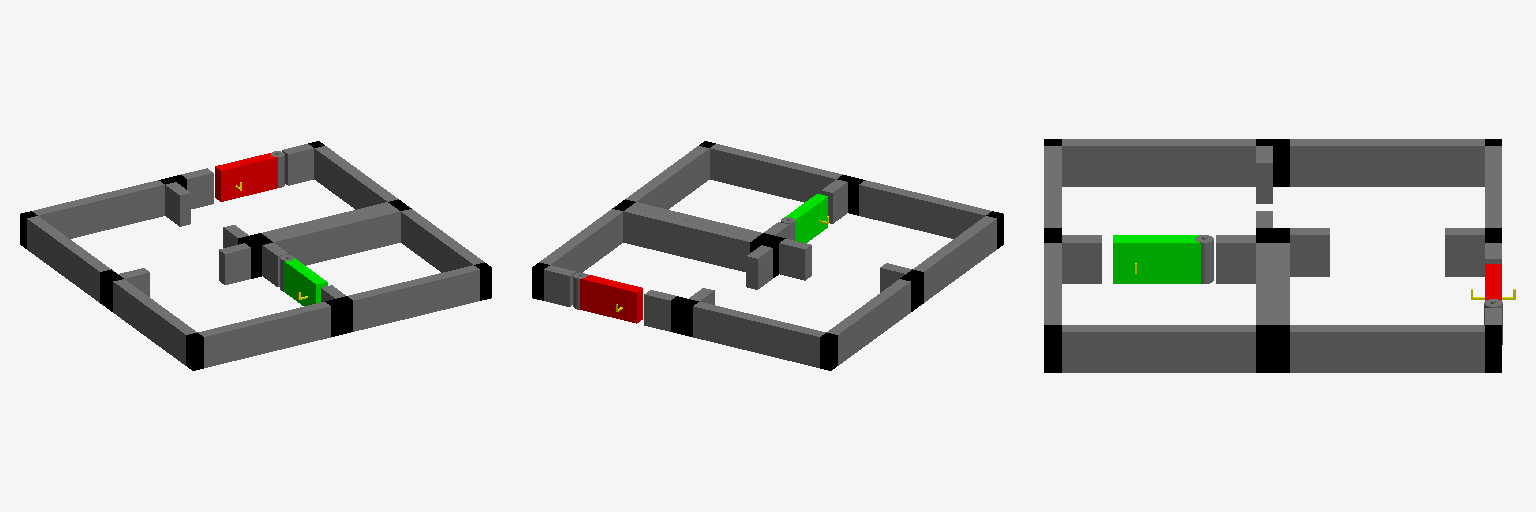
--- What the picture shows (computed from the rendered views, not written in the file) ---
3 views of the same robot in one strip: view 1: azimuth 30°, elevation 25°; view 2: azimuth 150°, elevation 25°; view 3: azimuth 270°, elevation 25° (orthographic).
Robot: rooms1 — 48 links, 47 joints (2 revolute, 45 fixed); root link base_link; default pose: all joints at 0.
Visible links, largest first — view 1: link_fixed_3_wall_(0.0, -0.4625), link_fixed_20_wall_(-1.0, -0.4625), link_fixed_1_wall_(0.0, 0.4625), link_fixed_25_wall_(-1.0, 1.4625), link_fixed_31_wall_(-1.4625, 1.0), link_fixed_23_wall_(-1.4625, 0.0), link_fixed_45_wall_(0.4625, 1.0), link_fixed_5_wall_(0.4625, 0.0), link_fixed_37_door_panel, link_fixed_11_door_panel, link_fixed_18_wall_(-0.6625, 0.4625), link_fixed_34_wall_(0.3375, 1.4625) (+5 smaller); view 2: link_fixed_25_wall_(-1.0, 1.4625), link_fixed_43_wall_(0.0, 0.5375), link_fixed_20_wall_(-1.0, -0.4625), link_fixed_3_wall_(0.0, -0.4625), link_fixed_23_wall_(-1.4625, 0.0), link_fixed_31_wall_(-1.4625, 1.0), link_fixed_5_wall_(0.4625, 0.0), link_fixed_45_wall_(0.4625, 1.0), link_fixed_37_door_panel, link_fixed_11_door_panel, link_fixed_18_wall_(-0.6625, 0.4625), link_fixed_34_wall_(0.3375, 1.4625) (+5 smaller); view 3: link_fixed_31_wall_(-1.4625, 1.0), link_fixed_45_wall_(0.4625, 1.0), link_fixed_23_wall_(-1.4625, 0.0), link_fixed_5_wall_(0.4625, 0.0), link_fixed_11_door_panel, link_fixed_28_wall_(-0.5375, 0.6625), link_fixed_29_wall_(-0.5375, 1.3375), link_fixed_7_wall_(-0.4625, -0.3375), link_fixed_8_wall_(-0.4625, 0.3375), link_fixed_20_wall_(-1.0, -0.4625), link_fixed_3_wall_(0.0, -0.4625), link_fixed_1_wall_(0.0, 0.4625) (+10 smaller).
Link boxes in pixels (bbox=[...]): link_fixed_3_wall_(0.0, -0.4625): bbox=[348, 265, 479, 331]; link_fixed_20_wall_(-1.0, -0.4625): bbox=[198, 302, 330, 367]; link_fixed_1_wall_(0.0, 0.4625): bbox=[268, 207, 400, 265]; link_fixed_25_wall_(-1.0, 1.4625): bbox=[32, 180, 164, 238]; link_fixed_31_wall_(-1.4625, 1.0): bbox=[27, 216, 110, 302]; link_fixed_23_wall_(-1.4625, 0.0): bbox=[113, 279, 197, 365]; link_fixed_45_wall_(0.4625, 1.0): bbox=[314, 146, 397, 209]; link_fixed_5_wall_(0.4625, 0.0): bbox=[401, 209, 483, 272]; link_fixed_37_door_panel: bbox=[215, 153, 277, 201]; link_fixed_11_door_panel: bbox=[283, 258, 327, 305]; link_fixed_18_wall_(-0.6625, 0.4625): bbox=[219, 243, 250, 284]; link_fixed_34_wall_(0.3375, 1.4625): bbox=[282, 144, 313, 185]; link_fixed_25_wall_(-1.0, 1.4625): bbox=[693, 302, 825, 367]; link_fixed_43_wall_(0.0, 0.5375): bbox=[623, 207, 755, 271]; link_fixed_20_wall_(-1.0, -0.4625): bbox=[859, 180, 991, 238]; link_fixed_3_wall_(0.0, -0.4625): bbox=[710, 144, 842, 202]; link_fixed_23_wall_(-1.4625, 0.0): bbox=[913, 216, 996, 302]; link_fixed_31_wall_(-1.4625, 1.0): bbox=[826, 279, 910, 365]; link_fixed_5_wall_(0.4625, 0.0): bbox=[626, 146, 709, 209]; link_fixed_45_wall_(0.4625, 1.0): bbox=[540, 209, 622, 272]; link_fixed_37_door_panel: bbox=[580, 274, 642, 323]; link_fixed_11_door_panel: bbox=[784, 194, 827, 242]; link_fixed_18_wall_(-0.6625, 0.4625): bbox=[779, 239, 811, 280]; link_fixed_34_wall_(0.3375, 1.4625): bbox=[544, 265, 575, 306]; link_fixed_31_wall_(-1.4625, 1.0): bbox=[1290, 139, 1484, 186]; link_fixed_45_wall_(0.4625, 1.0): bbox=[1290, 325, 1484, 372]; link_fixed_23_wall_(-1.4625, 0.0): bbox=[1062, 139, 1255, 186]; link_fixed_5_wall_(0.4625, 0.0): bbox=[1062, 325, 1255, 372]; link_fixed_11_door_panel: bbox=[1113, 235, 1200, 283]; link_fixed_28_wall_(-0.5375, 0.6625): bbox=[1290, 228, 1329, 276]; link_fixed_29_wall_(-0.5375, 1.3375): bbox=[1445, 228, 1484, 276]; link_fixed_7_wall_(-0.4625, -0.3375): bbox=[1062, 235, 1101, 283]; link_fixed_8_wall_(-0.4625, 0.3375): bbox=[1216, 235, 1255, 283]; link_fixed_20_wall_(-1.0, -0.4625): bbox=[1044, 146, 1061, 227]; link_fixed_3_wall_(0.0, -0.4625): bbox=[1044, 243, 1061, 324]; link_fixed_1_wall_(0.0, 0.4625): bbox=[1256, 243, 1272, 324].
Bounding box of the posed robot: 8 × 8.24 × 0.879 m (x, y, z).
Geometry: primitives only (box / cylinder / sphere), no mesh files.

The robot description file, URDF, robot "rooms1":
<?xml version="1.0"?>
<!-- created with Phobos 1.0.1 "Capricious Choutengan" -->
  <robot name="rooms1">

    <link name="base_link">
    </link>

    <link name="link_0_joint_0">
      <visual name="visual_cylinder_9_link_0">
        <origin xyz="0 0 0" rpy="0 0 0"/>
        <geometry>
          <cylinder radius="0.1645" length="0.799"/>
        </geometry>
        <material name="gray"/>
      </visual>
      <collision name="collision_cylinder_9_link_0">
        <origin xyz="0 0 0" rpy="0 0 0"/>
        <geometry>
          <cylinder radius="0.1645" length="0.799"/>
        </geometry>
      </collision>
    </link>

    <link name="link_1_joint_0">
      <visual name="visual_cylinder_35_link_1">
        <origin xyz="0 0 0" rpy="0 0 0"/>
        <geometry>
          <cylinder radius="0.1645" length="0.799"/>
        </geometry>
        <material name="gray"/>
      </visual>
      <collision name="collision_cylinder_35_link_1">
        <origin xyz="0 0 0" rpy="0 0 0"/>
        <geometry>
          <cylinder radius="0.1645" length="0.799"/>
        </geometry>
      </collision>
    </link>

    <link name="link_fixed_0_pillar_(-0.4625, 0.4625)">
      <visual name="visual_box_fixed_0_pillar_(-0.4625, 0.4625)">
        <origin xyz="0 0 0" rpy="0 0 0"/>
        <geometry>
          <box size="0.299 0.299 0.799"/>
        </geometry>
        <material name="black"/>
      </visual>
      <collision name="collision_box_fixed_0_pillar_(-0.4625, 0.4625)">
        <origin xyz="0 0 0" rpy="0 0 0"/>
        <geometry>
          <box size="0.299 0.299 0.799"/>
        </geometry>
      </collision>
    </link>

    <link name="link_fixed_10_hinge">
      <visual name="visual_cylinder_fixed_10_hinge">
        <origin xyz="0 0 0" rpy="0 0 0"/>
        <geometry>
          <cylinder radius="0.04075" length="0.879"/>
        </geometry>
        <material name="gray"/>
      </visual>
    </link>

    <link name="link_fixed_11_door_panel">
      <visual name="visual_box_fixed_11_door_panel">
        <origin xyz="0 0 0" rpy="0 0 0"/>
        <geometry>
          <box size="1.599 0.299 0.795"/>
        </geometry>
        <material name="green"/>
      </visual>
      <collision name="collision_box_fixed_11_door_panel">
        <origin xyz="0 0 0" rpy="0 0 0"/>
        <geometry>
          <box size="1.599 0.299 0.795"/>
        </geometry>
      </collision>
    </link>

    <link name="link_fixed_12_door_handle1">
      <visual name="visual_box_fixed_12_door_handle1">
        <origin xyz="0 0 0" rpy="0 0 0"/>
        <geometry>
          <box size="0.039 0.039 0.199"/>
        </geometry>
        <material name="yellow"/>
      </visual>
      <collision name="collision_box_fixed_12_door_handle1">
        <origin xyz="0 0 0" rpy="0 0 0"/>
        <geometry>
          <box size="0.039 0.039 0.199"/>
        </geometry>
      </collision>
    </link>

    <link name="link_fixed_13_door_handle1_connector">
      <visual name="visual_box_fixed_13_door_handle1_connector">
        <origin xyz="0 0 0" rpy="0 0 0"/>
        <geometry>
          <box size="0.039 0.199 0.039"/>
        </geometry>
        <material name="yellow"/>
      </visual>
      <collision name="collision_box_fixed_13_door_handle1_connector">
        <origin xyz="0 0 0" rpy="0 0 0"/>
        <geometry>
          <box size="0.039 0.199 0.039"/>
        </geometry>
      </collision>
    </link>

    <link name="link_fixed_14_door_handle2">
      <visual name="visual_box_fixed_14_door_handle2">
        <origin xyz="0 0 0" rpy="0 0 0"/>
        <geometry>
          <box size="0.039 0.039 0.199"/>
        </geometry>
        <material name="yellow"/>
      </visual>
      <collision name="collision_box_fixed_14_door_handle2">
        <origin xyz="0 0 0" rpy="0 0 0"/>
        <geometry>
          <box size="0.039 0.039 0.199"/>
        </geometry>
      </collision>
    </link>

    <link name="link_fixed_15_door_handle2_connector">
      <visual name="visual_box_fixed_15_door_handle2_connector">
        <origin xyz="0 0 0" rpy="0 0 0"/>
        <geometry>
          <box size="0.039 0.199 0.039"/>
        </geometry>
        <material name="yellow"/>
      </visual>
      <collision name="collision_box_fixed_15_door_handle2_connector">
        <origin xyz="0 0 0" rpy="0 0 0"/>
        <geometry>
          <box size="0.039 0.199 0.039"/>
        </geometry>
      </collision>
    </link>

    <link name="link_fixed_16_pillar_(-1.4625, 0.4625)">
      <visual name="visual_box_fixed_16_pillar_(-1.4625, 0.4625)">
        <origin xyz="0 0 0" rpy="0 0 0"/>
        <geometry>
          <box size="0.299 0.299 0.799"/>
        </geometry>
        <material name="black"/>
      </visual>
      <collision name="collision_box_fixed_16_pillar_(-1.4625, 0.4625)">
        <origin xyz="0 0 0" rpy="0 0 0"/>
        <geometry>
          <box size="0.299 0.299 0.799"/>
        </geometry>
      </collision>
    </link>

    <link name="link_fixed_17_wall_(-1.3375, 0.4625)">
      <visual name="visual_box_fixed_17_wall_(-1.3375, 0.4625)">
        <origin xyz="0 0 0" rpy="0 0 0"/>
        <geometry>
          <box size="0.699 0.299 0.799"/>
        </geometry>
        <material name="gray"/>
      </visual>
      <collision name="collision_box_fixed_17_wall_(-1.3375, 0.4625)">
        <origin xyz="0 0 0" rpy="0 0 0"/>
        <geometry>
          <box size="0.699 0.299 0.799"/>
        </geometry>
      </collision>
    </link>

    <link name="link_fixed_18_wall_(-0.6625, 0.4625)">
      <visual name="visual_box_fixed_18_wall_(-0.6625, 0.4625)">
        <origin xyz="0 0 0" rpy="0 0 0"/>
        <geometry>
          <box size="0.699 0.299 0.799"/>
        </geometry>
        <material name="gray"/>
      </visual>
      <collision name="collision_box_fixed_18_wall_(-0.6625, 0.4625)">
        <origin xyz="0 0 0" rpy="0 0 0"/>
        <geometry>
          <box size="0.699 0.299 0.799"/>
        </geometry>
      </collision>
    </link>

    <link name="link_fixed_19_pillar_(-0.5375, -0.4625)">
      <visual name="visual_box_fixed_19_pillar_(-0.5375, -0.4625)">
        <origin xyz="0 0 0" rpy="0 0 0"/>
        <geometry>
          <box size="0.299 0.299 0.799"/>
        </geometry>
        <material name="black"/>
      </visual>
      <collision name="collision_box_fixed_19_pillar_(-0.5375, -0.4625)">
        <origin xyz="0 0 0" rpy="0 0 0"/>
        <geometry>
          <box size="0.299 0.299 0.799"/>
        </geometry>
      </collision>
    </link>

    <link name="link_fixed_1_wall_(0.0, 0.4625)">
      <visual name="visual_box_fixed_1_wall_(0.0, 0.4625)">
        <origin xyz="0 0 0" rpy="0 0 0"/>
        <geometry>
          <box size="3.399 0.299 0.799"/>
        </geometry>
        <material name="gray"/>
      </visual>
      <collision name="collision_box_fixed_1_wall_(0.0, 0.4625)">
        <origin xyz="0 0 0" rpy="0 0 0"/>
        <geometry>
          <box size="3.399 0.299 0.799"/>
        </geometry>
      </collision>
    </link>

    <link name="link_fixed_20_wall_(-1.0, -0.4625)">
      <visual name="visual_box_fixed_20_wall_(-1.0, -0.4625)">
        <origin xyz="0 0 0" rpy="0 0 0"/>
        <geometry>
          <box size="3.399 0.299 0.799"/>
        </geometry>
        <material name="gray"/>
      </visual>
      <collision name="collision_box_fixed_20_wall_(-1.0, -0.4625)">
        <origin xyz="0 0 0" rpy="0 0 0"/>
        <geometry>
          <box size="3.399 0.299 0.799"/>
        </geometry>
      </collision>
    </link>

    <link name="link_fixed_21_pillar_(-0.5375, 0.4625)">
      <visual name="visual_box_fixed_21_pillar_(-0.5375, 0.4625)">
        <origin xyz="0 0 0" rpy="0 0 0"/>
        <geometry>
          <box size="0.299 0.299 0.799"/>
        </geometry>
        <material name="black"/>
      </visual>
      <collision name="collision_box_fixed_21_pillar_(-0.5375, 0.4625)">
        <origin xyz="0 0 0" rpy="0 0 0"/>
        <geometry>
          <box size="0.299 0.299 0.799"/>
        </geometry>
      </collision>
    </link>

    <link name="link_fixed_22_pillar_(-1.4625, -0.4625)">
      <visual name="visual_box_fixed_22_pillar_(-1.4625, -0.4625)">
        <origin xyz="0 0 0" rpy="0 0 0"/>
        <geometry>
          <box size="0.299 0.299 0.799"/>
        </geometry>
        <material name="black"/>
      </visual>
      <collision name="collision_box_fixed_22_pillar_(-1.4625, -0.4625)">
        <origin xyz="0 0 0" rpy="0 0 0"/>
        <geometry>
          <box size="0.299 0.299 0.799"/>
        </geometry>
      </collision>
    </link>

    <link name="link_fixed_23_wall_(-1.4625, 0.0)">
      <visual name="visual_box_fixed_23_wall_(-1.4625, 0.0)">
        <origin xyz="0 0 0" rpy="0 0 0"/>
        <geometry>
          <box size="0.299 3.399 0.799"/>
        </geometry>
        <material name="gray"/>
      </visual>
      <collision name="collision_box_fixed_23_wall_(-1.4625, 0.0)">
        <origin xyz="0 0 0" rpy="0 0 0"/>
        <geometry>
          <box size="0.299 3.399 0.799"/>
        </geometry>
      </collision>
    </link>

    <link name="link_fixed_24_pillar_(-1.4625, 1.4625)">
      <visual name="visual_box_fixed_24_pillar_(-1.4625, 1.4625)">
        <origin xyz="0 0 0" rpy="0 0 0"/>
        <geometry>
          <box size="0.299 0.299 0.799"/>
        </geometry>
        <material name="black"/>
      </visual>
      <collision name="collision_box_fixed_24_pillar_(-1.4625, 1.4625)">
        <origin xyz="0 0 0" rpy="0 0 0"/>
        <geometry>
          <box size="0.299 0.299 0.799"/>
        </geometry>
      </collision>
    </link>

    <link name="link_fixed_25_wall_(-1.0, 1.4625)">
      <visual name="visual_box_fixed_25_wall_(-1.0, 1.4625)">
        <origin xyz="0 0 0" rpy="0 0 0"/>
        <geometry>
          <box size="3.399 0.299 0.799"/>
        </geometry>
        <material name="gray"/>
      </visual>
      <collision name="collision_box_fixed_25_wall_(-1.0, 1.4625)">
        <origin xyz="0 0 0" rpy="0 0 0"/>
        <geometry>
          <box size="3.399 0.299 0.799"/>
        </geometry>
      </collision>
    </link>

    <link name="link_fixed_26_pillar_(-0.5375, 0.5375)">
      <visual name="visual_box_fixed_26_pillar_(-0.5375, 0.5375)">
        <origin xyz="0 0 0" rpy="0 0 0"/>
        <geometry>
          <box size="0.299 0.299 0.799"/>
        </geometry>
        <material name="black"/>
      </visual>
      <collision name="collision_box_fixed_26_pillar_(-0.5375, 0.5375)">
        <origin xyz="0 0 0" rpy="0 0 0"/>
        <geometry>
          <box size="0.299 0.299 0.799"/>
        </geometry>
      </collision>
    </link>

    <link name="link_fixed_27_pillar_(-0.5375, 1.4625)">
      <visual name="visual_box_fixed_27_pillar_(-0.5375, 1.4625)">
        <origin xyz="0 0 0" rpy="0 0 0"/>
        <geometry>
          <box size="0.299 0.299 0.799"/>
        </geometry>
        <material name="black"/>
      </visual>
      <collision name="collision_box_fixed_27_pillar_(-0.5375, 1.4625)">
        <origin xyz="0 0 0" rpy="0 0 0"/>
        <geometry>
          <box size="0.299 0.299 0.799"/>
        </geometry>
      </collision>
    </link>

    <link name="link_fixed_28_wall_(-0.5375, 0.6625)">
      <visual name="visual_box_fixed_28_wall_(-0.5375, 0.6625)">
        <origin xyz="0 0 0" rpy="0 0 0"/>
        <geometry>
          <box size="0.299 0.699 0.799"/>
        </geometry>
        <material name="gray"/>
      </visual>
      <collision name="collision_box_fixed_28_wall_(-0.5375, 0.6625)">
        <origin xyz="0 0 0" rpy="0 0 0"/>
        <geometry>
          <box size="0.299 0.699 0.799"/>
        </geometry>
      </collision>
    </link>

    <link name="link_fixed_29_wall_(-0.5375, 1.3375)">
      <visual name="visual_box_fixed_29_wall_(-0.5375, 1.3375)">
        <origin xyz="0 0 0" rpy="0 0 0"/>
        <geometry>
          <box size="0.299 0.699 0.799"/>
        </geometry>
        <material name="gray"/>
      </visual>
      <collision name="collision_box_fixed_29_wall_(-0.5375, 1.3375)">
        <origin xyz="0 0 0" rpy="0 0 0"/>
        <geometry>
          <box size="0.299 0.699 0.799"/>
        </geometry>
      </collision>
    </link>

    <link name="link_fixed_2_pillar_(0.4625, -0.4625)">
      <visual name="visual_box_fixed_2_pillar_(0.4625, -0.4625)">
        <origin xyz="0 0 0" rpy="0 0 0"/>
        <geometry>
          <box size="0.299 0.299 0.799"/>
        </geometry>
        <material name="black"/>
      </visual>
      <collision name="collision_box_fixed_2_pillar_(0.4625, -0.4625)">
        <origin xyz="0 0 0" rpy="0 0 0"/>
        <geometry>
          <box size="0.299 0.299 0.799"/>
        </geometry>
      </collision>
    </link>

    <link name="link_fixed_30_pillar_(-1.4625, 0.5375)">
      <visual name="visual_box_fixed_30_pillar_(-1.4625, 0.5375)">
        <origin xyz="0 0 0" rpy="0 0 0"/>
        <geometry>
          <box size="0.299 0.299 0.799"/>
        </geometry>
        <material name="black"/>
      </visual>
      <collision name="collision_box_fixed_30_pillar_(-1.4625, 0.5375)">
        <origin xyz="0 0 0" rpy="0 0 0"/>
        <geometry>
          <box size="0.299 0.299 0.799"/>
        </geometry>
      </collision>
    </link>

    <link name="link_fixed_31_wall_(-1.4625, 1.0)">
      <visual name="visual_box_fixed_31_wall_(-1.4625, 1.0)">
        <origin xyz="0 0 0" rpy="0 0 0"/>
        <geometry>
          <box size="0.299 3.399 0.799"/>
        </geometry>
        <material name="gray"/>
      </visual>
      <collision name="collision_box_fixed_31_wall_(-1.4625, 1.0)">
        <origin xyz="0 0 0" rpy="0 0 0"/>
        <geometry>
          <box size="0.299 3.399 0.799"/>
        </geometry>
      </collision>
    </link>

    <link name="link_fixed_32_pillar_(-0.4625, 1.4625)">
      <visual name="visual_box_fixed_32_pillar_(-0.4625, 1.4625)">
        <origin xyz="0 0 0" rpy="0 0 0"/>
        <geometry>
          <box size="0.299 0.299 0.799"/>
        </geometry>
        <material name="black"/>
      </visual>
      <collision name="collision_box_fixed_32_pillar_(-0.4625, 1.4625)">
        <origin xyz="0 0 0" rpy="0 0 0"/>
        <geometry>
          <box size="0.299 0.299 0.799"/>
        </geometry>
      </collision>
    </link>

    <link name="link_fixed_33_wall_(-0.3375, 1.4625)">
      <visual name="visual_box_fixed_33_wall_(-0.3375, 1.4625)">
        <origin xyz="0 0 0" rpy="0 0 0"/>
        <geometry>
          <box size="0.699 0.299 0.799"/>
        </geometry>
        <material name="gray"/>
      </visual>
      <collision name="collision_box_fixed_33_wall_(-0.3375, 1.4625)">
        <origin xyz="0 0 0" rpy="0 0 0"/>
        <geometry>
          <box size="0.699 0.299 0.799"/>
        </geometry>
      </collision>
    </link>

    <link name="link_fixed_34_wall_(0.3375, 1.4625)">
      <visual name="visual_box_fixed_34_wall_(0.3375, 1.4625)">
        <origin xyz="0 0 0" rpy="0 0 0"/>
        <geometry>
          <box size="0.699 0.299 0.799"/>
        </geometry>
        <material name="gray"/>
      </visual>
      <collision name="collision_box_fixed_34_wall_(0.3375, 1.4625)">
        <origin xyz="0 0 0" rpy="0 0 0"/>
        <geometry>
          <box size="0.699 0.299 0.799"/>
        </geometry>
      </collision>
    </link>

    <link name="link_fixed_36_hinge">
      <visual name="visual_cylinder_fixed_36_hinge">
        <origin xyz="0 0 0" rpy="0 0 0"/>
        <geometry>
          <cylinder radius="0.04075" length="0.879"/>
        </geometry>
        <material name="gray"/>
      </visual>
    </link>

    <link name="link_fixed_37_door_panel">
      <visual name="visual_box_fixed_37_door_panel">
        <origin xyz="0 0 0" rpy="0 0 0"/>
        <geometry>
          <box size="1.599 0.299 0.795"/>
        </geometry>
        <material name="red"/>
      </visual>
      <collision name="collision_box_fixed_37_door_panel">
        <origin xyz="0 0 0" rpy="0 0 0"/>
        <geometry>
          <box size="1.599 0.299 0.795"/>
        </geometry>
      </collision>
    </link>

    <link name="link_fixed_38_door_handle1">
      <visual name="visual_box_fixed_38_door_handle1">
        <origin xyz="0 0 0" rpy="0 0 0"/>
        <geometry>
          <box size="0.039 0.039 0.199"/>
        </geometry>
        <material name="yellow"/>
      </visual>
      <collision name="collision_box_fixed_38_door_handle1">
        <origin xyz="0 0 0" rpy="0 0 0"/>
        <geometry>
          <box size="0.039 0.039 0.199"/>
        </geometry>
      </collision>
    </link>

    <link name="link_fixed_39_door_handle1_connector">
      <visual name="visual_box_fixed_39_door_handle1_connector">
        <origin xyz="0 0 0" rpy="0 0 0"/>
        <geometry>
          <box size="0.039 0.199 0.039"/>
        </geometry>
        <material name="yellow"/>
      </visual>
      <collision name="collision_box_fixed_39_door_handle1_connector">
        <origin xyz="0 0 0" rpy="0 0 0"/>
        <geometry>
          <box size="0.039 0.199 0.039"/>
        </geometry>
      </collision>
    </link>

    <link name="link_fixed_3_wall_(0.0, -0.4625)">
      <visual name="visual_box_fixed_3_wall_(0.0, -0.4625)">
        <origin xyz="0 0 0" rpy="0 0 0"/>
        <geometry>
          <box size="3.399 0.299 0.799"/>
        </geometry>
        <material name="gray"/>
      </visual>
      <collision name="collision_box_fixed_3_wall_(0.0, -0.4625)">
        <origin xyz="0 0 0" rpy="0 0 0"/>
        <geometry>
          <box size="3.399 0.299 0.799"/>
        </geometry>
      </collision>
    </link>

    <link name="link_fixed_40_door_handle2">
      <visual name="visual_box_fixed_40_door_handle2">
        <origin xyz="0 0 0" rpy="0 0 0"/>
        <geometry>
          <box size="0.039 0.039 0.199"/>
        </geometry>
        <material name="yellow"/>
      </visual>
      <collision name="collision_box_fixed_40_door_handle2">
        <origin xyz="0 0 0" rpy="0 0 0"/>
        <geometry>
          <box size="0.039 0.039 0.199"/>
        </geometry>
      </collision>
    </link>

    <link name="link_fixed_41_door_handle2_connector">
      <visual name="visual_box_fixed_41_door_handle2_connector">
        <origin xyz="0 0 0" rpy="0 0 0"/>
        <geometry>
          <box size="0.039 0.199 0.039"/>
        </geometry>
        <material name="yellow"/>
      </visual>
      <collision name="collision_box_fixed_41_door_handle2_connector">
        <origin xyz="0 0 0" rpy="0 0 0"/>
        <geometry>
          <box size="0.039 0.199 0.039"/>
        </geometry>
      </collision>
    </link>

    <link name="link_fixed_42_pillar_(0.4625, 0.5375)">
      <visual name="visual_box_fixed_42_pillar_(0.4625, 0.5375)">
        <origin xyz="0 0 0" rpy="0 0 0"/>
        <geometry>
          <box size="0.299 0.299 0.799"/>
        </geometry>
        <material name="black"/>
      </visual>
      <collision name="collision_box_fixed_42_pillar_(0.4625, 0.5375)">
        <origin xyz="0 0 0" rpy="0 0 0"/>
        <geometry>
          <box size="0.299 0.299 0.799"/>
        </geometry>
      </collision>
    </link>

    <link name="link_fixed_43_wall_(0.0, 0.5375)">
      <visual name="visual_box_fixed_43_wall_(0.0, 0.5375)">
        <origin xyz="0 0 0" rpy="0 0 0"/>
        <geometry>
          <box size="3.399 0.299 0.799"/>
        </geometry>
        <material name="gray"/>
      </visual>
      <collision name="collision_box_fixed_43_wall_(0.0, 0.5375)">
        <origin xyz="0 0 0" rpy="0 0 0"/>
        <geometry>
          <box size="3.399 0.299 0.799"/>
        </geometry>
      </collision>
    </link>

    <link name="link_fixed_44_pillar_(0.4625, 1.4625)">
      <visual name="visual_box_fixed_44_pillar_(0.4625, 1.4625)">
        <origin xyz="0 0 0" rpy="0 0 0"/>
        <geometry>
          <box size="0.299 0.299 0.799"/>
        </geometry>
        <material name="black"/>
      </visual>
      <collision name="collision_box_fixed_44_pillar_(0.4625, 1.4625)">
        <origin xyz="0 0 0" rpy="0 0 0"/>
        <geometry>
          <box size="0.299 0.299 0.799"/>
        </geometry>
      </collision>
    </link>

    <link name="link_fixed_45_wall_(0.4625, 1.0)">
      <visual name="visual_box_fixed_45_wall_(0.4625, 1.0)">
        <origin xyz="0 0 0" rpy="0 0 0"/>
        <geometry>
          <box size="0.299 3.399 0.799"/>
        </geometry>
        <material name="gray"/>
      </visual>
      <collision name="collision_box_fixed_45_wall_(0.4625, 1.0)">
        <origin xyz="0 0 0" rpy="0 0 0"/>
        <geometry>
          <box size="0.299 3.399 0.799"/>
        </geometry>
      </collision>
    </link>

    <link name="link_fixed_46_pillar_(-0.4625, 0.5375)">
      <visual name="visual_box_fixed_46_pillar_(-0.4625, 0.5375)">
        <origin xyz="0 0 0" rpy="0 0 0"/>
        <geometry>
          <box size="0.299 0.299 0.799"/>
        </geometry>
        <material name="black"/>
      </visual>
      <collision name="collision_box_fixed_46_pillar_(-0.4625, 0.5375)">
        <origin xyz="0 0 0" rpy="0 0 0"/>
        <geometry>
          <box size="0.299 0.299 0.799"/>
        </geometry>
      </collision>
    </link>

    <link name="link_fixed_4_pillar_(0.4625, 0.4625)">
      <visual name="visual_box_fixed_4_pillar_(0.4625, 0.4625)">
        <origin xyz="0 0 0" rpy="0 0 0"/>
        <geometry>
          <box size="0.299 0.299 0.799"/>
        </geometry>
        <material name="black"/>
      </visual>
      <collision name="collision_box_fixed_4_pillar_(0.4625, 0.4625)">
        <origin xyz="0 0 0" rpy="0 0 0"/>
        <geometry>
          <box size="0.299 0.299 0.799"/>
        </geometry>
      </collision>
    </link>

    <link name="link_fixed_5_wall_(0.4625, 0.0)">
      <visual name="visual_box_fixed_5_wall_(0.4625, 0.0)">
        <origin xyz="0 0 0" rpy="0 0 0"/>
        <geometry>
          <box size="0.299 3.399 0.799"/>
        </geometry>
        <material name="gray"/>
      </visual>
      <collision name="collision_box_fixed_5_wall_(0.4625, 0.0)">
        <origin xyz="0 0 0" rpy="0 0 0"/>
        <geometry>
          <box size="0.299 3.399 0.799"/>
        </geometry>
      </collision>
    </link>

    <link name="link_fixed_6_pillar_(-0.4625, -0.4625)">
      <visual name="visual_box_fixed_6_pillar_(-0.4625, -0.4625)">
        <origin xyz="0 0 0" rpy="0 0 0"/>
        <geometry>
          <box size="0.299 0.299 0.799"/>
        </geometry>
        <material name="black"/>
      </visual>
      <collision name="collision_box_fixed_6_pillar_(-0.4625, -0.4625)">
        <origin xyz="0 0 0" rpy="0 0 0"/>
        <geometry>
          <box size="0.299 0.299 0.799"/>
        </geometry>
      </collision>
    </link>

    <link name="link_fixed_7_wall_(-0.4625, -0.3375)">
      <visual name="visual_box_fixed_7_wall_(-0.4625, -0.3375)">
        <origin xyz="0 0 0" rpy="0 0 0"/>
        <geometry>
          <box size="0.299 0.699 0.799"/>
        </geometry>
        <material name="gray"/>
      </visual>
      <collision name="collision_box_fixed_7_wall_(-0.4625, -0.3375)">
        <origin xyz="0 0 0" rpy="0 0 0"/>
        <geometry>
          <box size="0.299 0.699 0.799"/>
        </geometry>
      </collision>
    </link>

    <link name="link_fixed_8_wall_(-0.4625, 0.3375)">
      <visual name="visual_box_fixed_8_wall_(-0.4625, 0.3375)">
        <origin xyz="0 0 0" rpy="0 0 0"/>
        <geometry>
          <box size="0.299 0.699 0.799"/>
        </geometry>
        <material name="gray"/>
      </visual>
      <collision name="collision_box_fixed_8_wall_(-0.4625, 0.3375)">
        <origin xyz="0 0 0" rpy="0 0 0"/>
        <geometry>
          <box size="0.299 0.699 0.799"/>
        </geometry>
      </collision>
    </link>

    <joint name="link_0_joint_0" type="revolute">
      <origin xyz="-1.85 0.8 0.4" rpy="0 0 -1.5708"/>
      <parent link="base_link"/>
      <child link="link_0_joint_0"/>
      <axis xyz="0 0 1.0"/>
      <limit lower="0" upper="1.5708" effort="0" velocity="0"/>
    </joint>

    <joint name="link_1_joint_0" type="revolute">
      <origin xyz="0.8 5.85 0.4" rpy="0 0 3.14159"/>
      <parent link="base_link"/>
      <child link="link_1_joint_0"/>
      <axis xyz="0 0 1.0"/>
      <limit lower="0" upper="1.5708" effort="0" velocity="0"/>
    </joint>

    <joint name="link_fixed_0_pillar_(-0.4625, 0.4625)" type="fixed">
      <origin xyz="-1.85 1.85 0.4" rpy="0 0 0"/>
      <parent link="base_link"/>
      <child link="link_fixed_0_pillar_(-0.4625, 0.4625)"/>
    </joint>

    <joint name="link_fixed_10_hinge" type="fixed">
      <origin xyz="0 0 0" rpy="0 0 0"/>
      <parent link="link_0_joint_0"/>
      <child link="link_fixed_10_hinge"/>
    </joint>

    <joint name="link_fixed_11_door_panel" type="fixed">
      <origin xyz="0.8 0 0" rpy="0 0 0"/>
      <parent link="link_0_joint_0"/>
      <child link="link_fixed_11_door_panel"/>
    </joint>

    <joint name="link_fixed_12_door_handle1" type="fixed">
      <origin xyz="1.2 0.37 0" rpy="0 0 0"/>
      <parent link="link_0_joint_0"/>
      <child link="link_fixed_12_door_handle1"/>
    </joint>

    <joint name="link_fixed_13_door_handle1_connector" type="fixed">
      <origin xyz="1.2 0.25 -0.08" rpy="0 0 0"/>
      <parent link="link_0_joint_0"/>
      <child link="link_fixed_13_door_handle1_connector"/>
    </joint>

    <joint name="link_fixed_14_door_handle2" type="fixed">
      <origin xyz="1.2 -0.37 0" rpy="0 0 0"/>
      <parent link="link_0_joint_0"/>
      <child link="link_fixed_14_door_handle2"/>
    </joint>

    <joint name="link_fixed_15_door_handle2_connector" type="fixed">
      <origin xyz="1.2 -0.25 -0.08" rpy="0 0 0"/>
      <parent link="link_0_joint_0"/>
      <child link="link_fixed_15_door_handle2_connector"/>
    </joint>

    <joint name="link_fixed_16_pillar_(-1.4625, 0.4625)" type="fixed">
      <origin xyz="-5.85 1.85 0.4" rpy="0 0 0"/>
      <parent link="base_link"/>
      <child link="link_fixed_16_pillar_(-1.4625, 0.4625)"/>
    </joint>

    <joint name="link_fixed_17_wall_(-1.3375, 0.4625)" type="fixed">
      <origin xyz="-5.35 1.85 0.4" rpy="0 0 0"/>
      <parent link="base_link"/>
      <child link="link_fixed_17_wall_(-1.3375, 0.4625)"/>
    </joint>

    <joint name="link_fixed_18_wall_(-0.6625, 0.4625)" type="fixed">
      <origin xyz="-2.65 1.85 0.4" rpy="0 0 0"/>
      <parent link="base_link"/>
      <child link="link_fixed_18_wall_(-0.6625, 0.4625)"/>
    </joint>

    <joint name="link_fixed_19_pillar_(-0.5375, -0.4625)" type="fixed">
      <origin xyz="-2.15 -1.85 0.4" rpy="0 0 0"/>
      <parent link="base_link"/>
      <child link="link_fixed_19_pillar_(-0.5375, -0.4625)"/>
    </joint>

    <joint name="link_fixed_1_wall_(0.0, 0.4625)" type="fixed">
      <origin xyz="0 1.85 0.4" rpy="0 0 0"/>
      <parent link="base_link"/>
      <child link="link_fixed_1_wall_(0.0, 0.4625)"/>
    </joint>

    <joint name="link_fixed_20_wall_(-1.0, -0.4625)" type="fixed">
      <origin xyz="-4.0 -1.85 0.4" rpy="0 0 0"/>
      <parent link="base_link"/>
      <child link="link_fixed_20_wall_(-1.0, -0.4625)"/>
    </joint>

    <joint name="link_fixed_21_pillar_(-0.5375, 0.4625)" type="fixed">
      <origin xyz="-2.15 1.85 0.4" rpy="0 0 0"/>
      <parent link="base_link"/>
      <child link="link_fixed_21_pillar_(-0.5375, 0.4625)"/>
    </joint>

    <joint name="link_fixed_22_pillar_(-1.4625, -0.4625)" type="fixed">
      <origin xyz="-5.85 -1.85 0.4" rpy="0 0 0"/>
      <parent link="base_link"/>
      <child link="link_fixed_22_pillar_(-1.4625, -0.4625)"/>
    </joint>

    <joint name="link_fixed_23_wall_(-1.4625, 0.0)" type="fixed">
      <origin xyz="-5.85 0 0.4" rpy="0 0 0"/>
      <parent link="base_link"/>
      <child link="link_fixed_23_wall_(-1.4625, 0.0)"/>
    </joint>

    <joint name="link_fixed_24_pillar_(-1.4625, 1.4625)" type="fixed">
      <origin xyz="-5.85 5.85 0.4" rpy="0 0 0"/>
      <parent link="base_link"/>
      <child link="link_fixed_24_pillar_(-1.4625, 1.4625)"/>
    </joint>

    <joint name="link_fixed_25_wall_(-1.0, 1.4625)" type="fixed">
      <origin xyz="-4.0 5.85 0.4" rpy="0 0 0"/>
      <parent link="base_link"/>
      <child link="link_fixed_25_wall_(-1.0, 1.4625)"/>
    </joint>

    <joint name="link_fixed_26_pillar_(-0.5375, 0.5375)" type="fixed">
      <origin xyz="-2.15 2.15 0.4" rpy="0 0 0"/>
      <parent link="base_link"/>
      <child link="link_fixed_26_pillar_(-0.5375, 0.5375)"/>
    </joint>

    <joint name="link_fixed_27_pillar_(-0.5375, 1.4625)" type="fixed">
      <origin xyz="-2.15 5.85 0.4" rpy="0 0 0"/>
      <parent link="base_link"/>
      <child link="link_fixed_27_pillar_(-0.5375, 1.4625)"/>
    </joint>

    <joint name="link_fixed_28_wall_(-0.5375, 0.6625)" type="fixed">
      <origin xyz="-2.15 2.65 0.4" rpy="0 0 0"/>
      <parent link="base_link"/>
      <child link="link_fixed_28_wall_(-0.5375, 0.6625)"/>
    </joint>

    <joint name="link_fixed_29_wall_(-0.5375, 1.3375)" type="fixed">
      <origin xyz="-2.15 5.35 0.4" rpy="0 0 0"/>
      <parent link="base_link"/>
      <child link="link_fixed_29_wall_(-0.5375, 1.3375)"/>
    </joint>

    <joint name="link_fixed_2_pillar_(0.4625, -0.4625)" type="fixed">
      <origin xyz="1.85 -1.85 0.4" rpy="0 0 0"/>
      <parent link="base_link"/>
      <child link="link_fixed_2_pillar_(0.4625, -0.4625)"/>
    </joint>

    <joint name="link_fixed_30_pillar_(-1.4625, 0.5375)" type="fixed">
      <origin xyz="-5.85 2.15 0.4" rpy="0 0 0"/>
      <parent link="base_link"/>
      <child link="link_fixed_30_pillar_(-1.4625, 0.5375)"/>
    </joint>

    <joint name="link_fixed_31_wall_(-1.4625, 1.0)" type="fixed">
      <origin xyz="-5.85 4.0 0.4" rpy="0 0 0"/>
      <parent link="base_link"/>
      <child link="link_fixed_31_wall_(-1.4625, 1.0)"/>
    </joint>

    <joint name="link_fixed_32_pillar_(-0.4625, 1.4625)" type="fixed">
      <origin xyz="-1.85 5.85 0.4" rpy="0 0 0"/>
      <parent link="base_link"/>
      <child link="link_fixed_32_pillar_(-0.4625, 1.4625)"/>
    </joint>

    <joint name="link_fixed_33_wall_(-0.3375, 1.4625)" type="fixed">
      <origin xyz="-1.35 5.85 0.4" rpy="0 0 0"/>
      <parent link="base_link"/>
      <child link="link_fixed_33_wall_(-0.3375, 1.4625)"/>
    </joint>

    <joint name="link_fixed_34_wall_(0.3375, 1.4625)" type="fixed">
      <origin xyz="1.35 5.85 0.4" rpy="0 0 0"/>
      <parent link="base_link"/>
      <child link="link_fixed_34_wall_(0.3375, 1.4625)"/>
    </joint>

    <joint name="link_fixed_36_hinge" type="fixed">
      <origin xyz="0 0 0" rpy="0 0 0"/>
      <parent link="link_1_joint_0"/>
      <child link="link_fixed_36_hinge"/>
    </joint>

    <joint name="link_fixed_37_door_panel" type="fixed">
      <origin xyz="0.8 0 0" rpy="0 0 0"/>
      <parent link="link_1_joint_0"/>
      <child link="link_fixed_37_door_panel"/>
    </joint>

    <joint name="link_fixed_38_door_handle1" type="fixed">
      <origin xyz="1.2 0.37 0" rpy="0 0 0"/>
      <parent link="link_1_joint_0"/>
      <child link="link_fixed_38_door_handle1"/>
    </joint>

    <joint name="link_fixed_39_door_handle1_connector" type="fixed">
      <origin xyz="1.2 0.25 -0.08" rpy="0 0 0"/>
      <parent link="link_1_joint_0"/>
      <child link="link_fixed_39_door_handle1_connector"/>
    </joint>

    <joint name="link_fixed_3_wall_(0.0, -0.4625)" type="fixed">
      <origin xyz="0 -1.85 0.4" rpy="0 0 0"/>
      <parent link="base_link"/>
      <child link="link_fixed_3_wall_(0.0, -0.4625)"/>
    </joint>

    <joint name="link_fixed_40_door_handle2" type="fixed">
      <origin xyz="1.2 -0.37 0" rpy="0 0 0"/>
      <parent link="link_1_joint_0"/>
      <child link="link_fixed_40_door_handle2"/>
    </joint>

    <joint name="link_fixed_41_door_handle2_connector" type="fixed">
      <origin xyz="1.2 -0.25 -0.08" rpy="0 0 0"/>
      <parent link="link_1_joint_0"/>
      <child link="link_fixed_41_door_handle2_connector"/>
    </joint>

    <joint name="link_fixed_42_pillar_(0.4625, 0.5375)" type="fixed">
      <origin xyz="1.85 2.15 0.4" rpy="0 0 0"/>
      <parent link="base_link"/>
      <child link="link_fixed_42_pillar_(0.4625, 0.5375)"/>
    </joint>

    <joint name="link_fixed_43_wall_(0.0, 0.5375)" type="fixed">
      <origin xyz="0 2.15 0.4" rpy="0 0 0"/>
      <parent link="base_link"/>
      <child link="link_fixed_43_wall_(0.0, 0.5375)"/>
    </joint>

    <joint name="link_fixed_44_pillar_(0.4625, 1.4625)" type="fixed">
      <origin xyz="1.85 5.85 0.4" rpy="0 0 0"/>
      <parent link="base_link"/>
      <child link="link_fixed_44_pillar_(0.4625, 1.4625)"/>
    </joint>

    <joint name="link_fixed_45_wall_(0.4625, 1.0)" type="fixed">
      <origin xyz="1.85 4.0 0.4" rpy="0 0 0"/>
      <parent link="base_link"/>
      <child link="link_fixed_45_wall_(0.4625, 1.0)"/>
    </joint>

    <joint name="link_fixed_46_pillar_(-0.4625, 0.5375)" type="fixed">
      <origin xyz="-1.85 2.15 0.4" rpy="0 0 0"/>
      <parent link="base_link"/>
      <child link="link_fixed_46_pillar_(-0.4625, 0.5375)"/>
    </joint>

    <joint name="link_fixed_4_pillar_(0.4625, 0.4625)" type="fixed">
      <origin xyz="1.85 1.85 0.4" rpy="0 0 0"/>
      <parent link="base_link"/>
      <child link="link_fixed_4_pillar_(0.4625, 0.4625)"/>
    </joint>

    <joint name="link_fixed_5_wall_(0.4625, 0.0)" type="fixed">
      <origin xyz="1.85 0 0.4" rpy="0 0 0"/>
      <parent link="base_link"/>
      <child link="link_fixed_5_wall_(0.4625, 0.0)"/>
    </joint>

    <joint name="link_fixed_6_pillar_(-0.4625, -0.4625)" type="fixed">
      <origin xyz="-1.85 -1.85 0.4" rpy="0 0 0"/>
      <parent link="base_link"/>
      <child link="link_fixed_6_pillar_(-0.4625, -0.4625)"/>
    </joint>

    <joint name="link_fixed_7_wall_(-0.4625, -0.3375)" type="fixed">
      <origin xyz="-1.85 -1.35 0.4" rpy="0 0 0"/>
      <parent link="base_link"/>
      <child link="link_fixed_7_wall_(-0.4625, -0.3375)"/>
    </joint>

    <joint name="link_fixed_8_wall_(-0.4625, 0.3375)" type="fixed">
      <origin xyz="-1.85 1.35 0.4" rpy="0 0 0"/>
      <parent link="base_link"/>
      <child link="link_fixed_8_wall_(-0.4625, 0.3375)"/>
    </joint>

    <material name="black">
      <color rgba="0 0 0 1.0"/>
    </material>

    <material name="gray">
      <color rgba="0.5 0.5 0.5 1.0"/>
    </material>

    <material name="green">
      <color rgba="0 1.0 0 1.0"/>
    </material>

    <material name="red">
      <color rgba="1.0 0 0 1.0"/>
    </material>

    <material name="yellow">
      <color rgba="1.0 1.0 0 1.0"/>
    </material>

  </robot>
